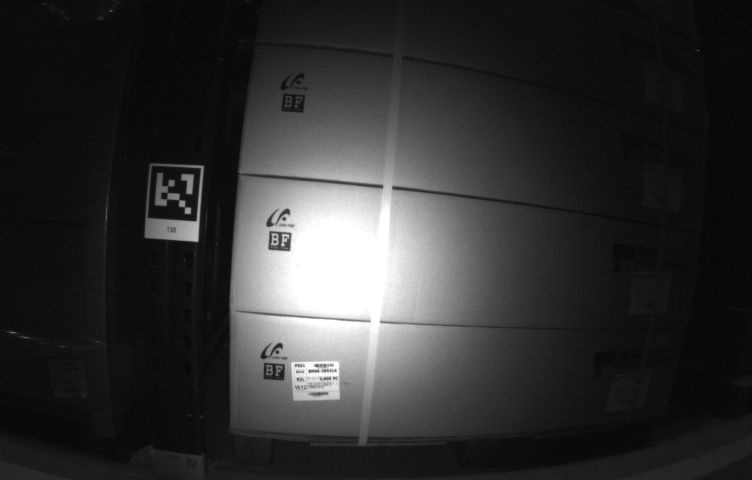True Barcode: (291, 361, 340, 401)
